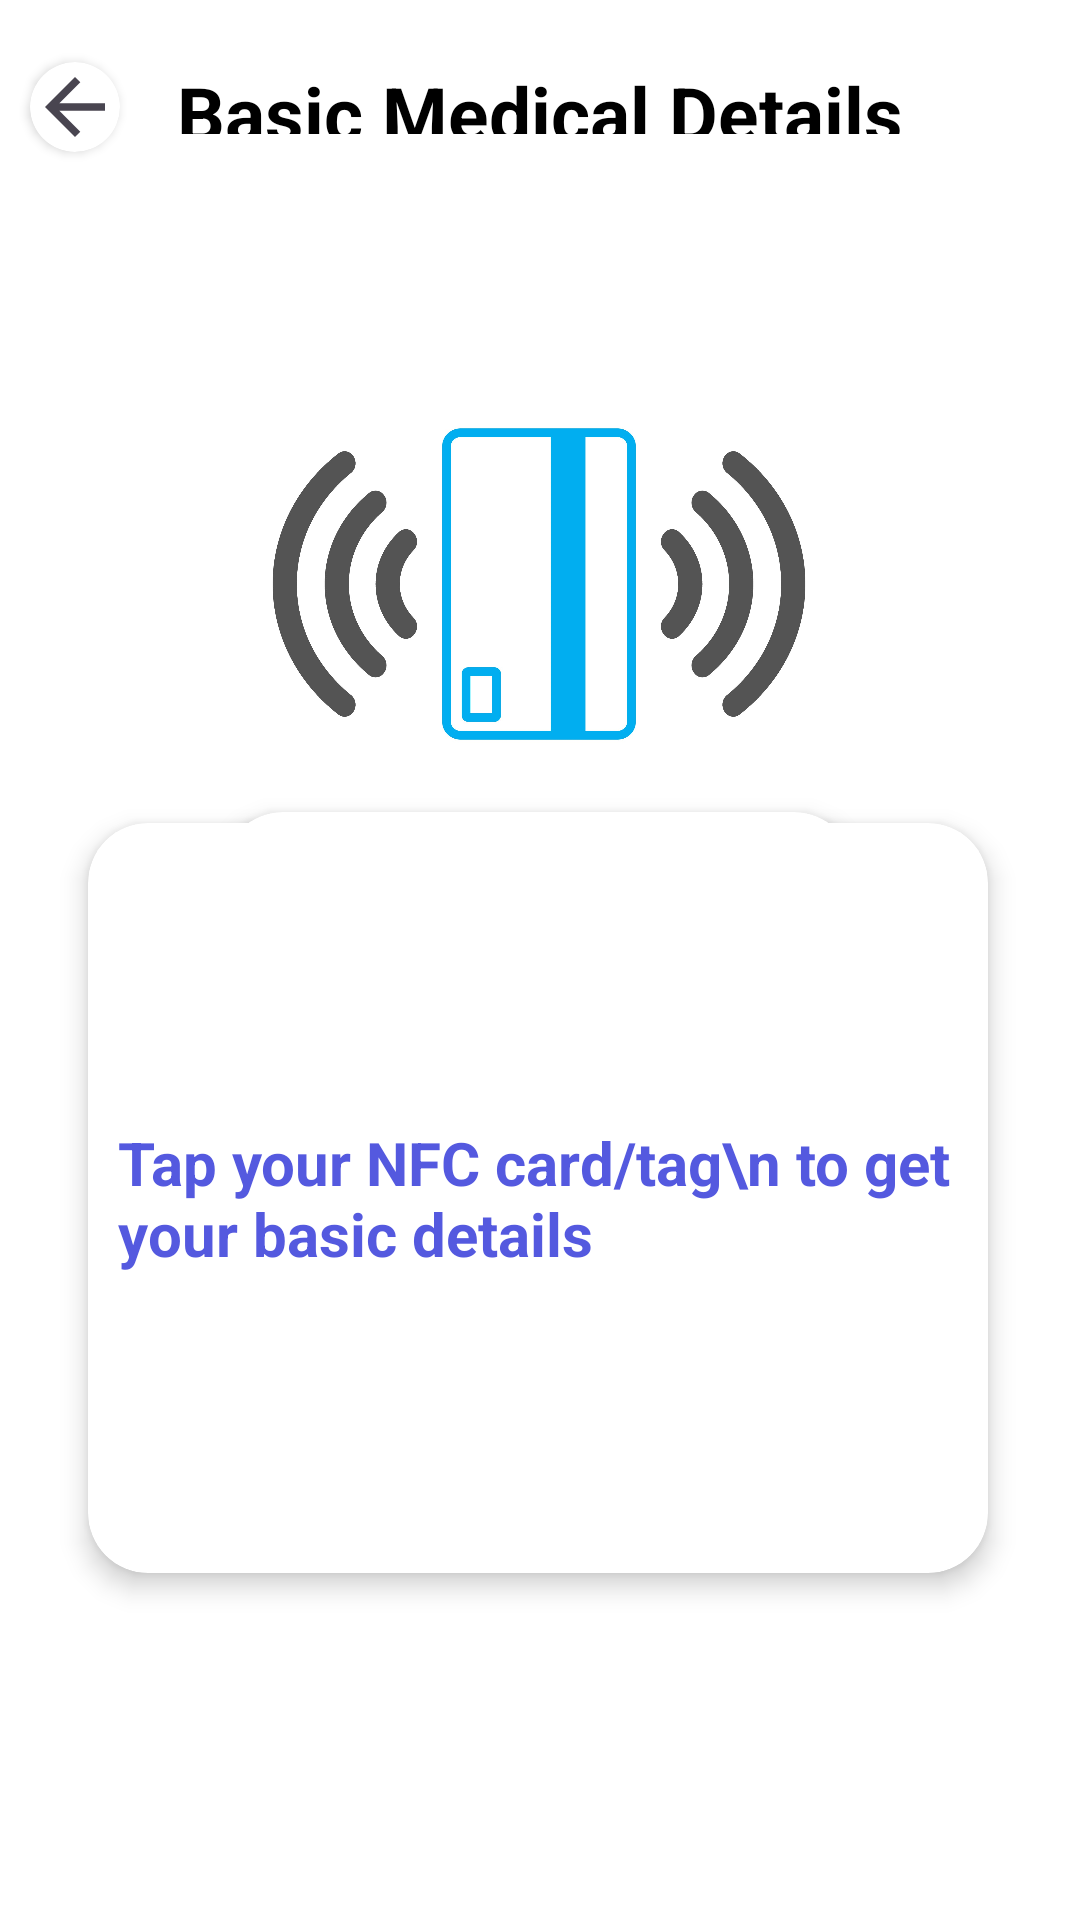

Screen size 1080×1920. Icon name, then its center in pixels as (x,y):
backbutton: (67,107)
